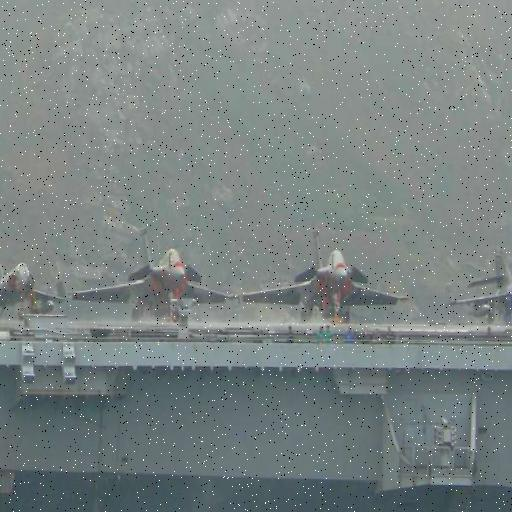Portanaves: (1, 202, 512, 512)
